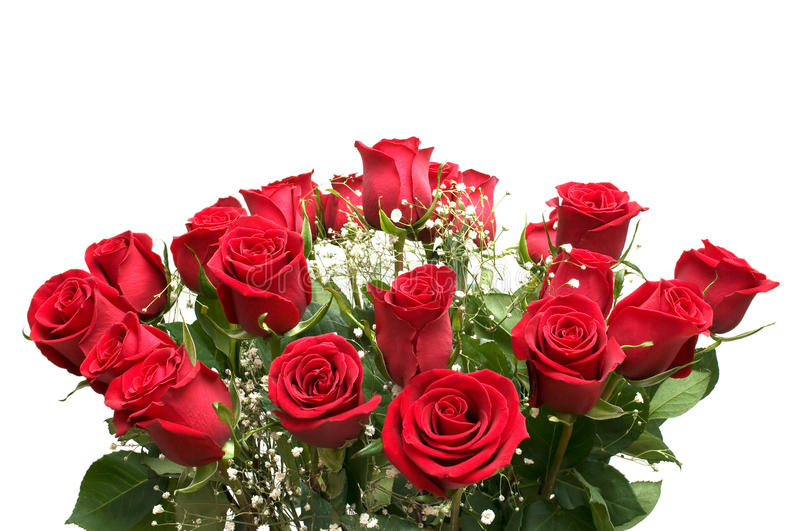RedRose: (406, 371, 517, 478), (676, 237, 771, 347), (530, 294, 617, 414), (133, 362, 230, 456), (355, 126, 443, 229), (22, 262, 110, 358), (281, 333, 361, 433), (376, 272, 462, 363), (626, 272, 696, 378), (559, 166, 641, 249), (97, 236, 187, 309), (230, 244, 314, 320), (91, 331, 176, 402), (248, 189, 354, 235), (544, 255, 615, 307), (526, 201, 573, 263), (177, 175, 220, 242)
